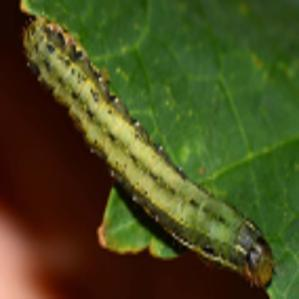Beet armyworm: (16, 11, 283, 299)
